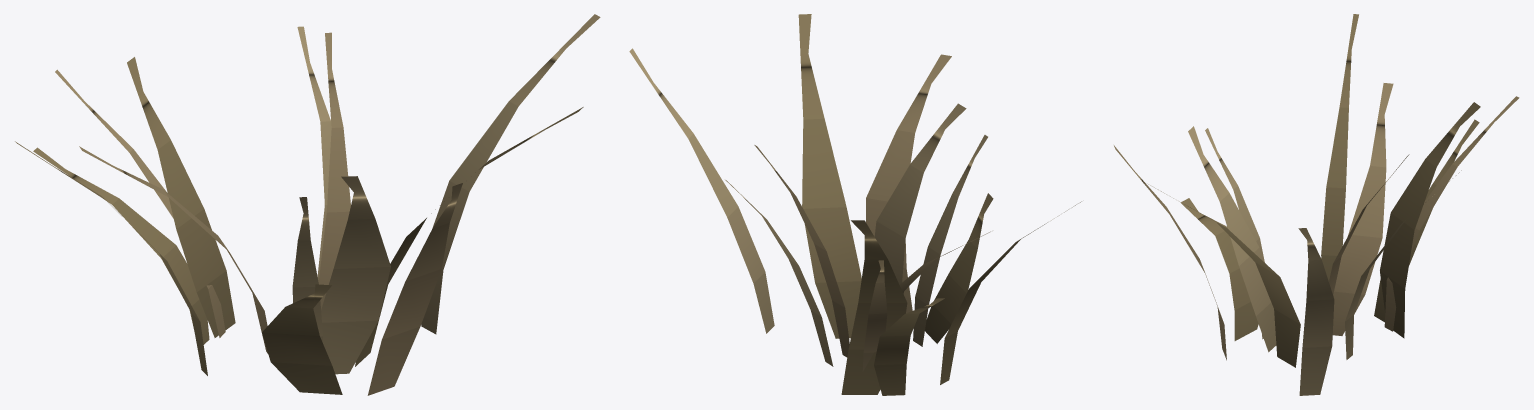
File: canyons-sculpted-ground-detail.glb
3 views of the same model, side by side, from view 1: azimuth 30°, elevation 25°; view 2: azimuth 150°, elevation 25°; view 3: azimuth 270°, elevation 25° (orthographic). The views are drawn at different scales.
Parts seen in each view (by area): view 1: canyons-3d-ground-detail; view 2: canyons-3d-ground-detail; view 3: canyons-3d-ground-detail.
Boxes of the visible parts, <box> form: canyons-3d-ground-detail: <box>15,14,600,395</box>; canyons-3d-ground-detail: <box>629,14,1081,395</box>; canyons-3d-ground-detail: <box>1114,14,1519,395</box>.
Bounding box in the file's own units: 0.5025 × 0.2422 × 0.3789.
